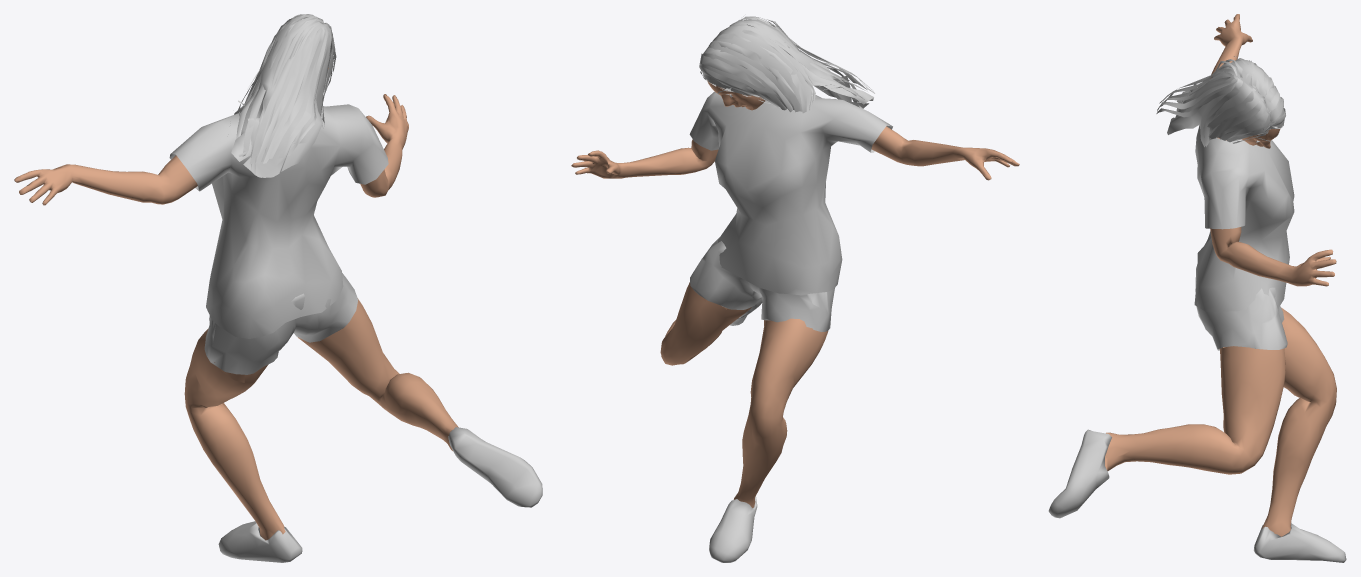
The model's file is player2att_000024.obj.
The picture shows the model from 3 angles, left to right: view 1: azimuth 30°, elevation 25°; view 2: azimuth 150°, elevation 25°; view 3: azimuth 270°, elevation 25°; orthographic projection. The views are drawn at different scales.
Visible parts, largest first — view 1: player2:tshirt02, player2:Body, player2:fhair01, player2:shoes02, player2:short01; view 2: player2:tshirt02, player2:Body, player2:fhair01, player2:short01, player2:shoes02; view 3: player2:Body, player2:tshirt02, player2:fhair01, player2:shoes02, player2:short01.
Part boxes in pixels (left/top/right/bottom): player2:tshirt02: left=169, top=104, right=388, bottom=338; player2:Body: left=14, top=68, right=458, bottom=540; player2:fhair01: left=231, top=14, right=336, bottom=177; player2:shoes02: left=218, top=427, right=542, bottom=562; player2:short01: left=204, top=273, right=358, bottom=374; player2:tshirt02: left=689, top=91, right=892, bottom=294; player2:Body: left=571, top=80, right=1019, bottom=507; player2:fhair01: left=699, top=16, right=874, bottom=113; player2:short01: left=690, top=236, right=834, bottom=331; player2:shoes02: left=709, top=298, right=762, bottom=562; player2:Body: left=1105, top=14, right=1336, bottom=536; player2:tshirt02: left=1194, top=125, right=1294, bottom=311; player2:fhair01: left=1156, top=56, right=1285, bottom=147; player2:shoes02: left=1048, top=429, right=1346, bottom=562; player2:short01: left=1196, top=287, right=1287, bottom=350.
Size of the model in its own units: 12.8 by 15.63 by 8.23.
